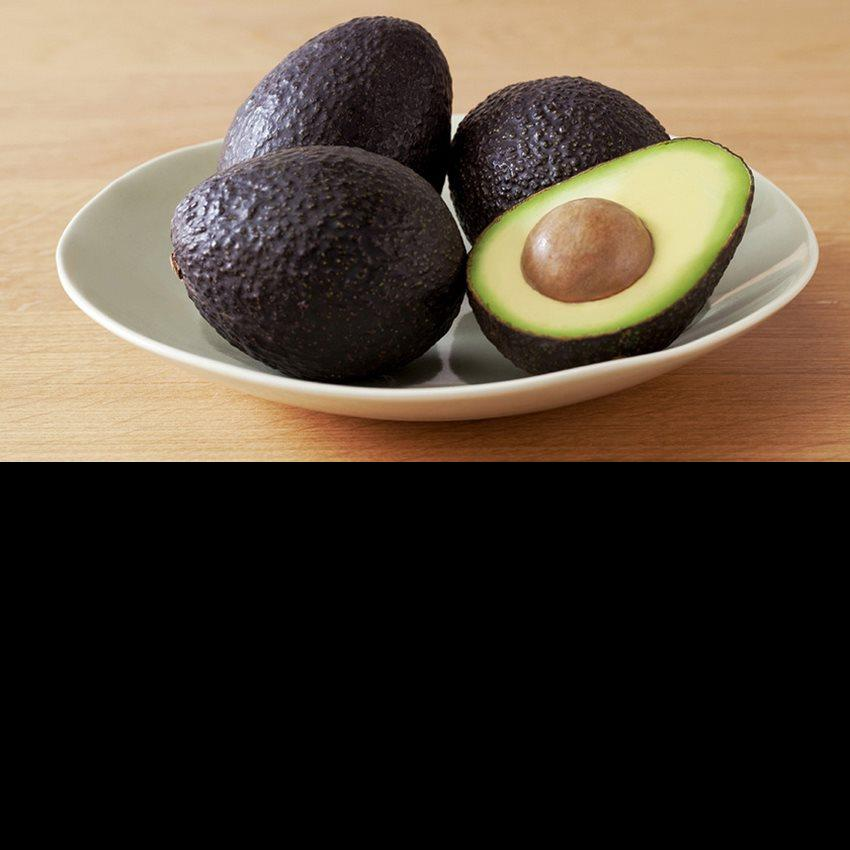ripe: (171, 146, 467, 379), (217, 15, 453, 195), (450, 76, 672, 245)
